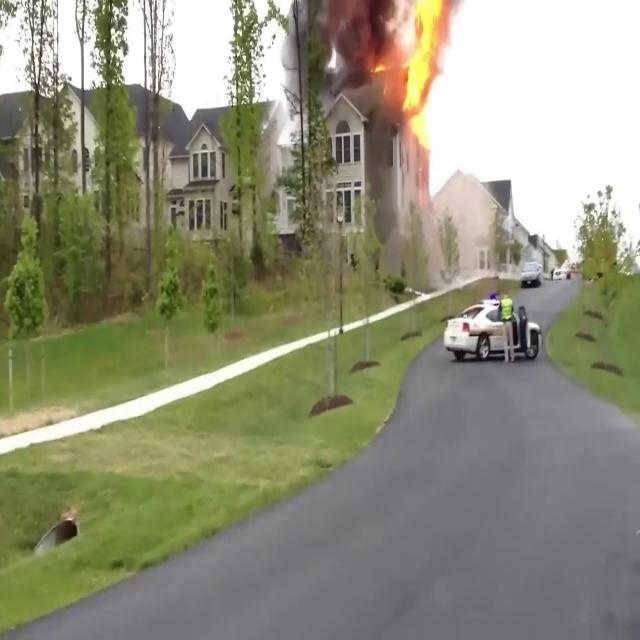Fire: (396, 0, 456, 156)
Smoke: (280, 0, 392, 112)
